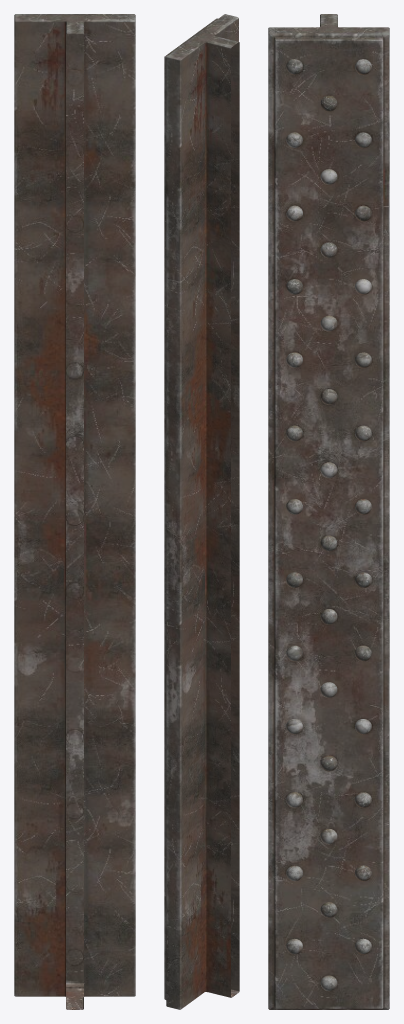
The model's file is SM_Beam_Thin_Split_100u.glb.
3 renders of one model, left to right at view 1: azimuth 90°, elevation 25°; view 2: azimuth 150°, elevation 25°; view 3: azimuth 270°, elevation 25°, orthographic. The views are drawn at different scales.
Visible parts, largest first — view 1: SM_Beam_Thin_Split_100u; view 2: SM_Beam_Thin_Split_100u; view 3: SM_Beam_Thin_Split_100u.
Boxes of the visible parts, <box> form: SM_Beam_Thin_Split_100u: <box>14,14,135,1009</box>; SM_Beam_Thin_Split_100u: <box>164,14,239,1009</box>; SM_Beam_Thin_Split_100u: <box>268,14,389,1009</box>.
Size of the model in its own units: 0.154 by 2.66 by 0.3.
Materials: 1 (1 with a texture image).
